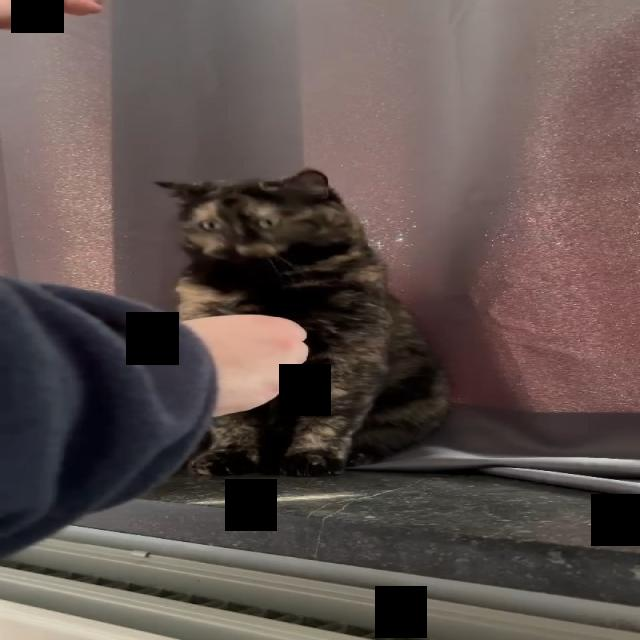authorized: (152, 168, 452, 477)
